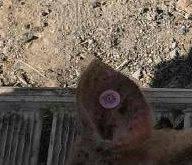text: (90, 81, 132, 117)
